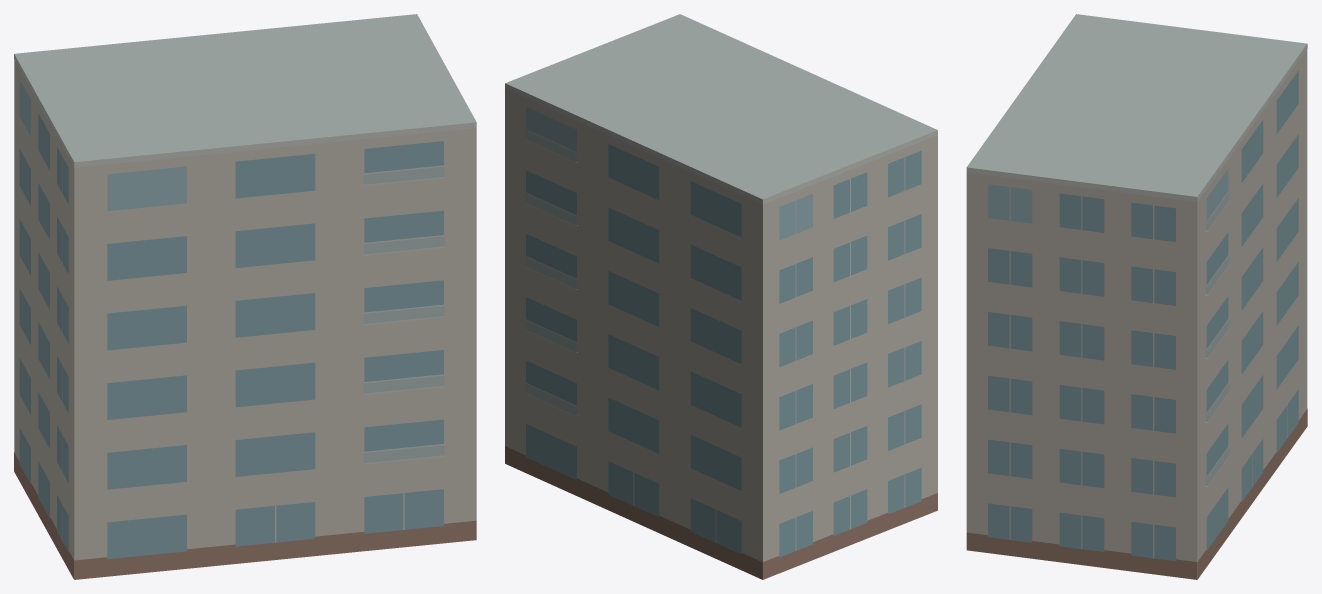
Rendered from survey-upis-32875281.glb.
3 views of the same model, side by side, from view 1: azimuth 30°, elevation 25°; view 2: azimuth 150°, elevation 25°; view 3: azimuth 270°, elevation 25° (orthographic). The views are drawn at different scales.
Parts seen in each view (by area): view 1: survey-upis-32875281.tmp; view 2: survey-upis-32875281.tmp; view 3: survey-upis-32875281.tmp.
Boxes of the visible parts, x1,y1,x2,y2 form: survey-upis-32875281.tmp: (14, 14, 476, 579); survey-upis-32875281.tmp: (505, 14, 937, 579); survey-upis-32875281.tmp: (966, 14, 1307, 579).
Bounding box in the file's own units: 18.76 × 18.3 × 14.77.
